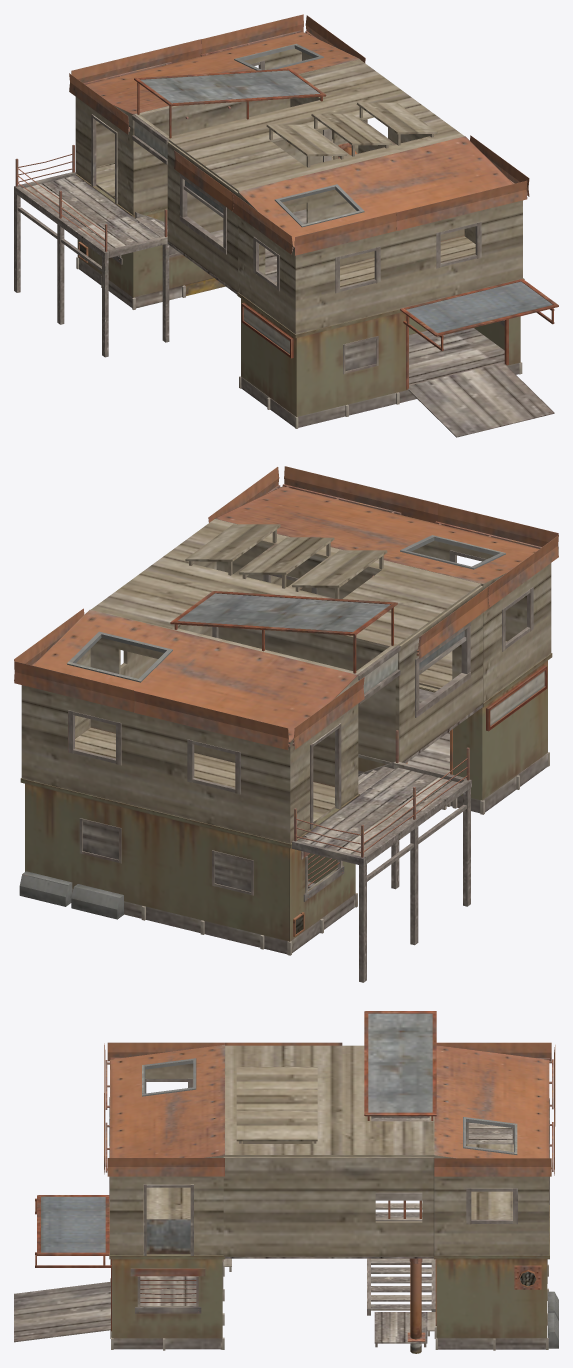
File: shanty_mansion.0dfde78cb0.glb
The picture shows the model from 3 angles, top to bottom: view 1: azimuth 30°, elevation 25°; view 2: azimuth 150°, elevation 25°; view 3: azimuth 270°, elevation 25°; orthographic projection. The views are drawn at different scales.
Visible parts, largest first — view 1: shanty_mansion_5, shanty_mansion_3, shanty_mansion_4, shanty_mansion_2, shanty_mansion_1, shanty_mansion_0; view 2: shanty_mansion_2, shanty_mansion_3, shanty_mansion_0, shanty_mansion_5, shanty_mansion_1, shanty_mansion_4; view 3: shanty_mansion_3, shanty_mansion_5, shanty_mansion_2, shanty_mansion_4, shanty_mansion_0, shanty_mansion_1.
Part boxes in pixels (bbox=[...]): shanty_mansion_5: bbox=[233, 135, 529, 334]; shanty_mansion_3: bbox=[132, 59, 464, 294]; shanty_mansion_4: bbox=[237, 278, 558, 437]; shanty_mansion_2: bbox=[69, 14, 365, 215]; shanty_mansion_1: bbox=[14, 142, 357, 357]; shanty_mansion_0: bbox=[76, 174, 225, 309]; shanty_mansion_2: bbox=[14, 608, 364, 843]; shanty_mansion_3: bbox=[91, 519, 489, 764]; shanty_mansion_0: bbox=[20, 778, 359, 955]; shanty_mansion_5: bbox=[208, 466, 558, 702]; shanty_mansion_1: bbox=[19, 730, 471, 982]; shanty_mansion_4: bbox=[358, 653, 552, 814]; shanty_mansion_3: bbox=[223, 1011, 436, 1258]; shanty_mansion_5: bbox=[104, 1042, 224, 1255]; shanty_mansion_2: bbox=[434, 1042, 555, 1255]; shanty_mansion_4: bbox=[14, 1195, 231, 1350]; shanty_mansion_0: bbox=[427, 1205, 549, 1350]; shanty_mansion_1: bbox=[367, 1116, 558, 1353].
Size of the model in its own units: 9.82 by 7.61 by 15.8.
6 materials, 6 textured.
